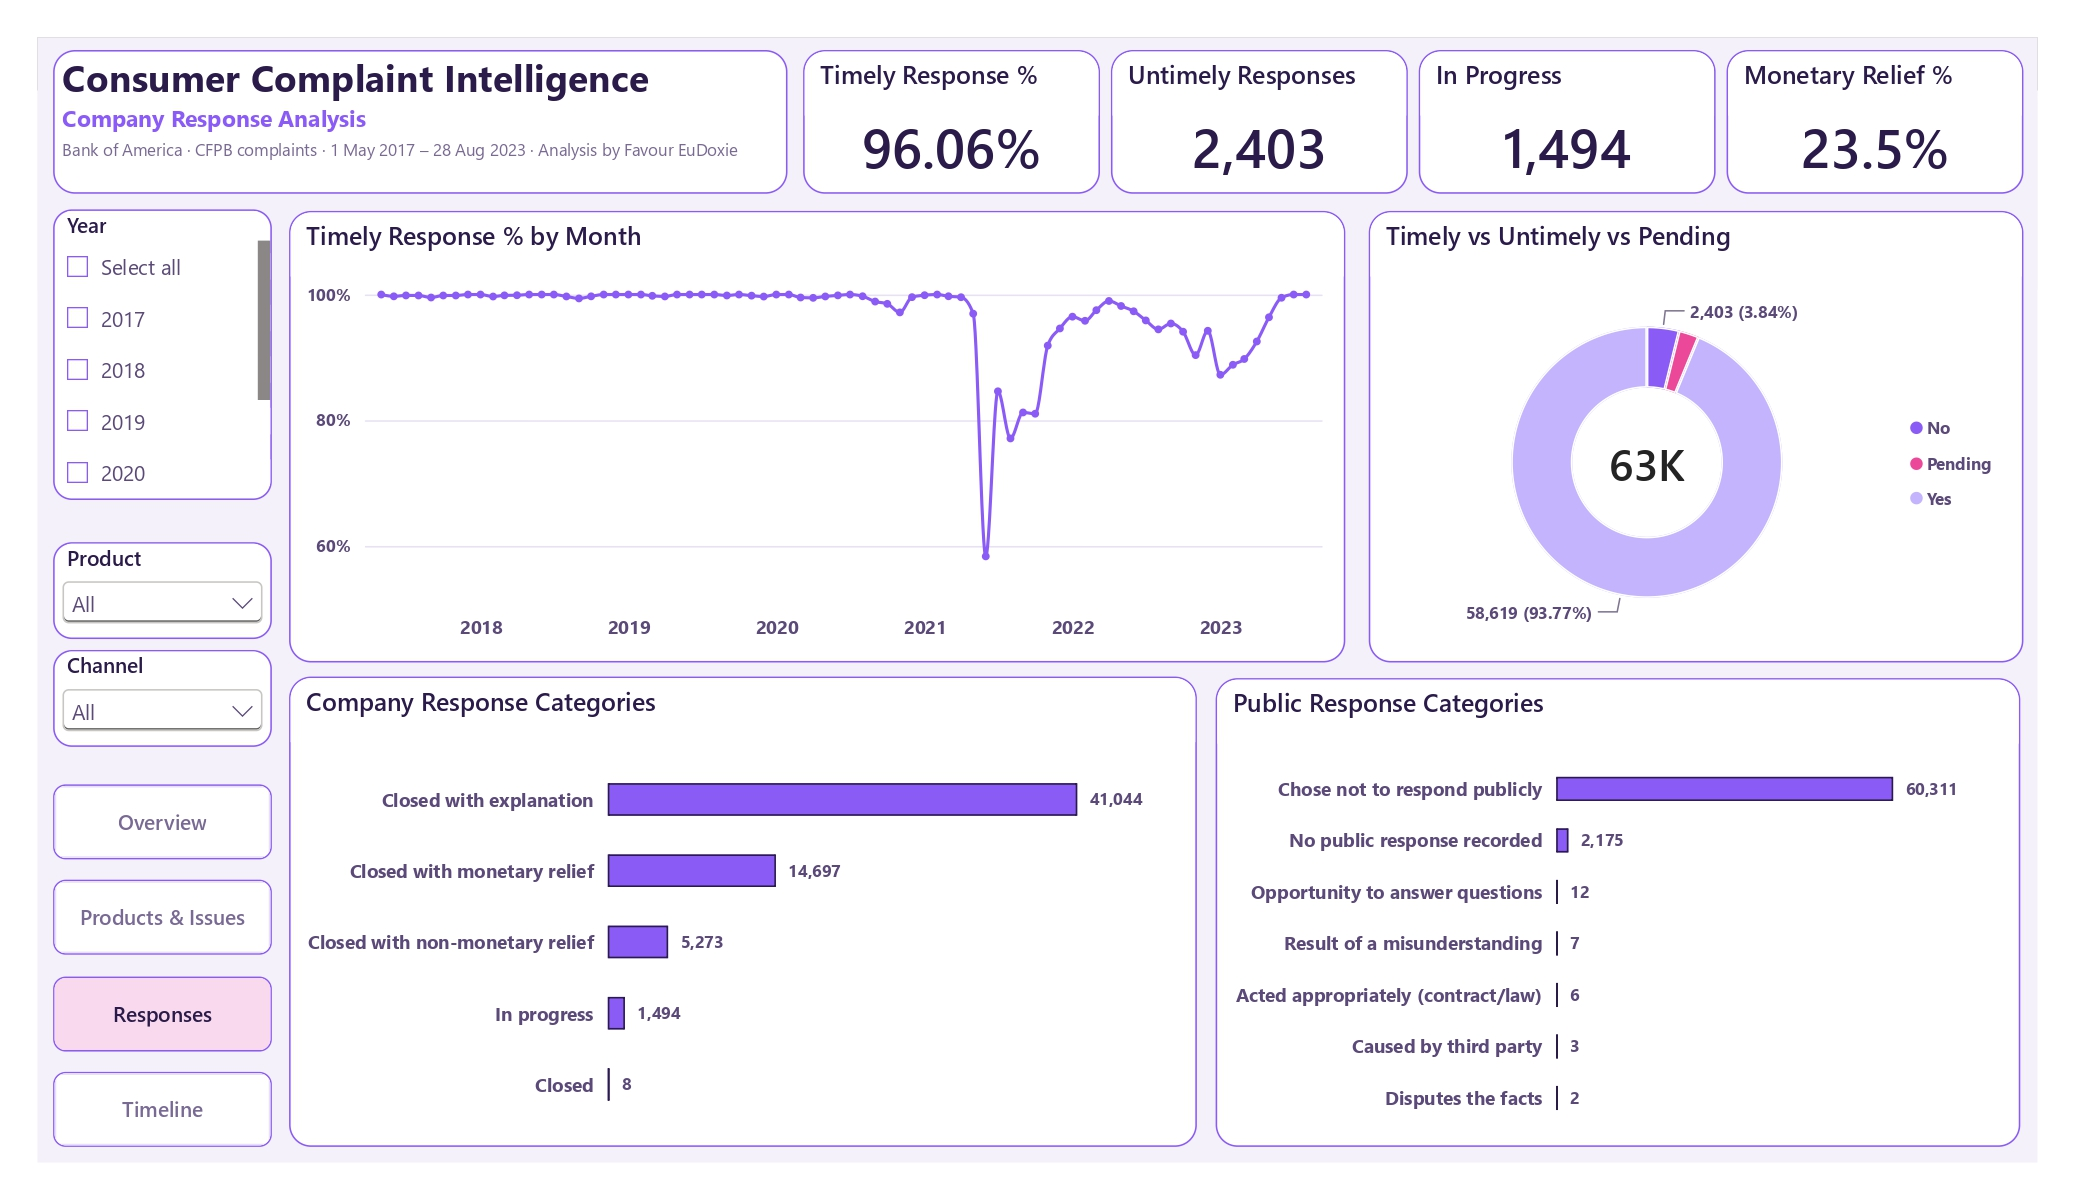

This screenshot's page, from the dashboard's own definition file:
{"tool":"powerbi","page":{"name":"Company Response","canvas":[1280,720],"ordinal":2},"visuals":[{"type":"textbox","box":[10,8,470,92],"z":1000},{"type":"card","title":"Timely Response %","fields":{"Values":["Complaints.Timely Response %"]},"box":[490,8,190,92],"z":2000},{"type":"card","title":"Untimely Responses","fields":{"Values":["Complaints.Untimely Responses"]},"box":[687,8,190,92],"z":3000},{"type":"card","title":"In Progress","fields":{"Values":["Complaints.In Progress Complaints"]},"box":[884,8,190,92],"z":4000},{"type":"card","title":"Monetary Relief %","fields":{"Values":["Complaints.Monetary Relief %"]},"box":[1081,8,190,92],"z":5000},{"type":"slicer","fields":{"Values":["Complaints.Year"]},"box":[10,110,140,186],"z":6000},{"type":"slicer","fields":{"Values":["Complaints.Product Short"]},"box":[10,323,140,62],"z":7000},{"type":"slicer","fields":{"Values":["Complaints.Submitted via"]},"box":[10,392,140,62],"z":8000},{"type":"actionButton","box":[10.1,478,140,48],"z":9000},{"type":"actionButton","box":[10.1,539.3,140,48],"z":10000},{"type":"actionButton","box":[10.1,600.7,140,48],"z":11000},{"type":"actionButton","box":[10,662,140,48],"z":12000},{"type":"clusteredBarChart","title":"Company Response Categories","fields":{"Category":["Complaints.Company response to consumer"],"Y":["Complaints.Total Complaints"]},"box":[160.8,409.5,580.9,300.3],"z":14000},{"type":"donutChart","title":"Timely vs Untimely vs Pending","fields":{"Category":["Complaints.Timely Response Status"],"Y":["Complaints.Total Complaints"]},"box":[852.3,110.7,418.6,289.7],"z":15000},{"type":"lineChart","title":"Timely Response % by Month","fields":{"Category":["Complaints.Year Month"],"Y":["Complaints.Timely Response %"]},"box":[160.8,110.7,676.4,289.7],"z":16000},{"type":"clusteredBarChart","title":"Public Response Categories","fields":{"Category":["Complaints.Public Response Clean"],"Y":["Complaints.Total Complaints"]},"box":[753.7,409.7,515.6,300.3],"z":18000}]}

Visuals, with their boxes on the page's 1280x720 design canvas (x1, y1, x2, y2). These are canvas units, not pixel positions in the 2075x1200 screenshot, which may show the page scaled, cropped or inside an application window:
textbox: detection(10, 8, 480, 100)
"Timely Response %" card: detection(490, 8, 680, 100)
"Untimely Responses" card: detection(687, 8, 877, 100)
"In Progress" card: detection(884, 8, 1074, 100)
"Monetary Relief %" card: detection(1081, 8, 1271, 100)
slicer - Complaints.Year: detection(10, 110, 150, 296)
slicer - Complaints.Product Short: detection(10, 323, 150, 385)
slicer - Complaints.Submitted via: detection(10, 392, 150, 454)
actionButton: detection(10, 478, 150, 526)
actionButton: detection(10, 539, 150, 587)
actionButton: detection(10, 601, 150, 649)
actionButton: detection(10, 662, 150, 710)
"Company Response Categories" clusteredBarChart: detection(161, 410, 742, 710)
"Timely vs Untimely vs Pending" donutChart: detection(852, 111, 1271, 400)
"Timely Response % by Month" lineChart: detection(161, 111, 837, 400)
"Public Response Categories" clusteredBarChart: detection(754, 410, 1269, 710)
